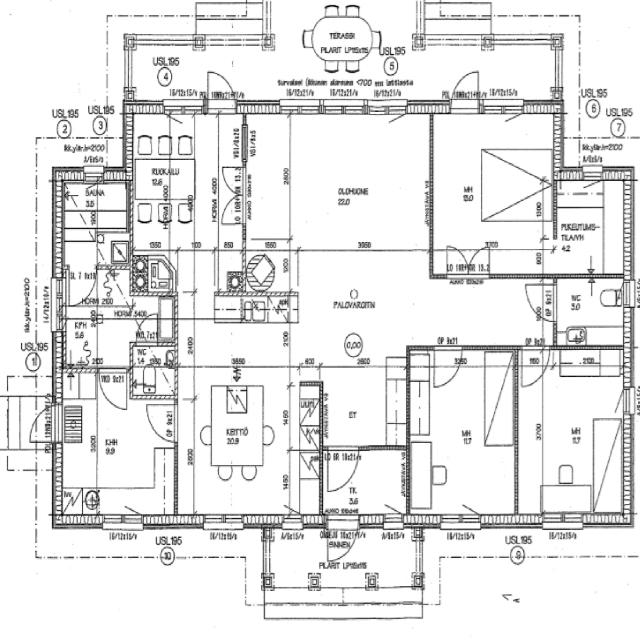door: (328, 512, 358, 567), (450, 61, 480, 113), (24, 404, 63, 442), (208, 63, 235, 113), (328, 446, 358, 490), (146, 404, 178, 442), (434, 345, 462, 387), (521, 345, 549, 387), (99, 368, 127, 408), (526, 284, 556, 321), (69, 266, 96, 305), (446, 246, 468, 278), (136, 315, 158, 346), (468, 246, 489, 278), (222, 167, 246, 195), (222, 195, 246, 223)
